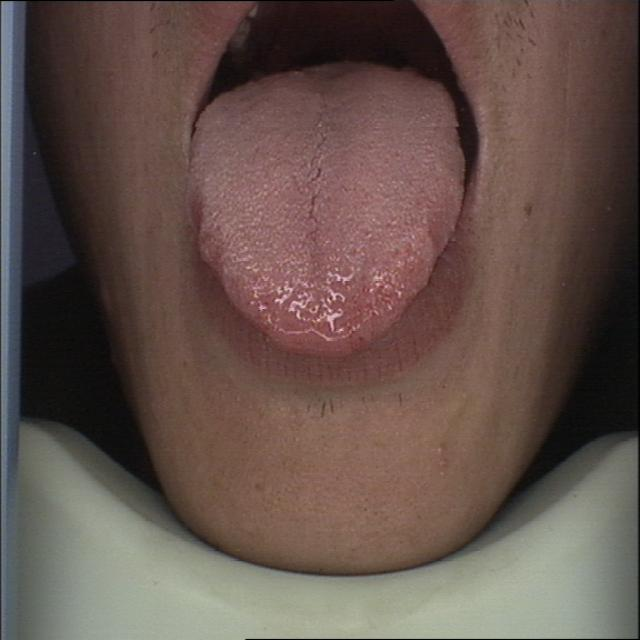tongue: (181, 53, 474, 355)
